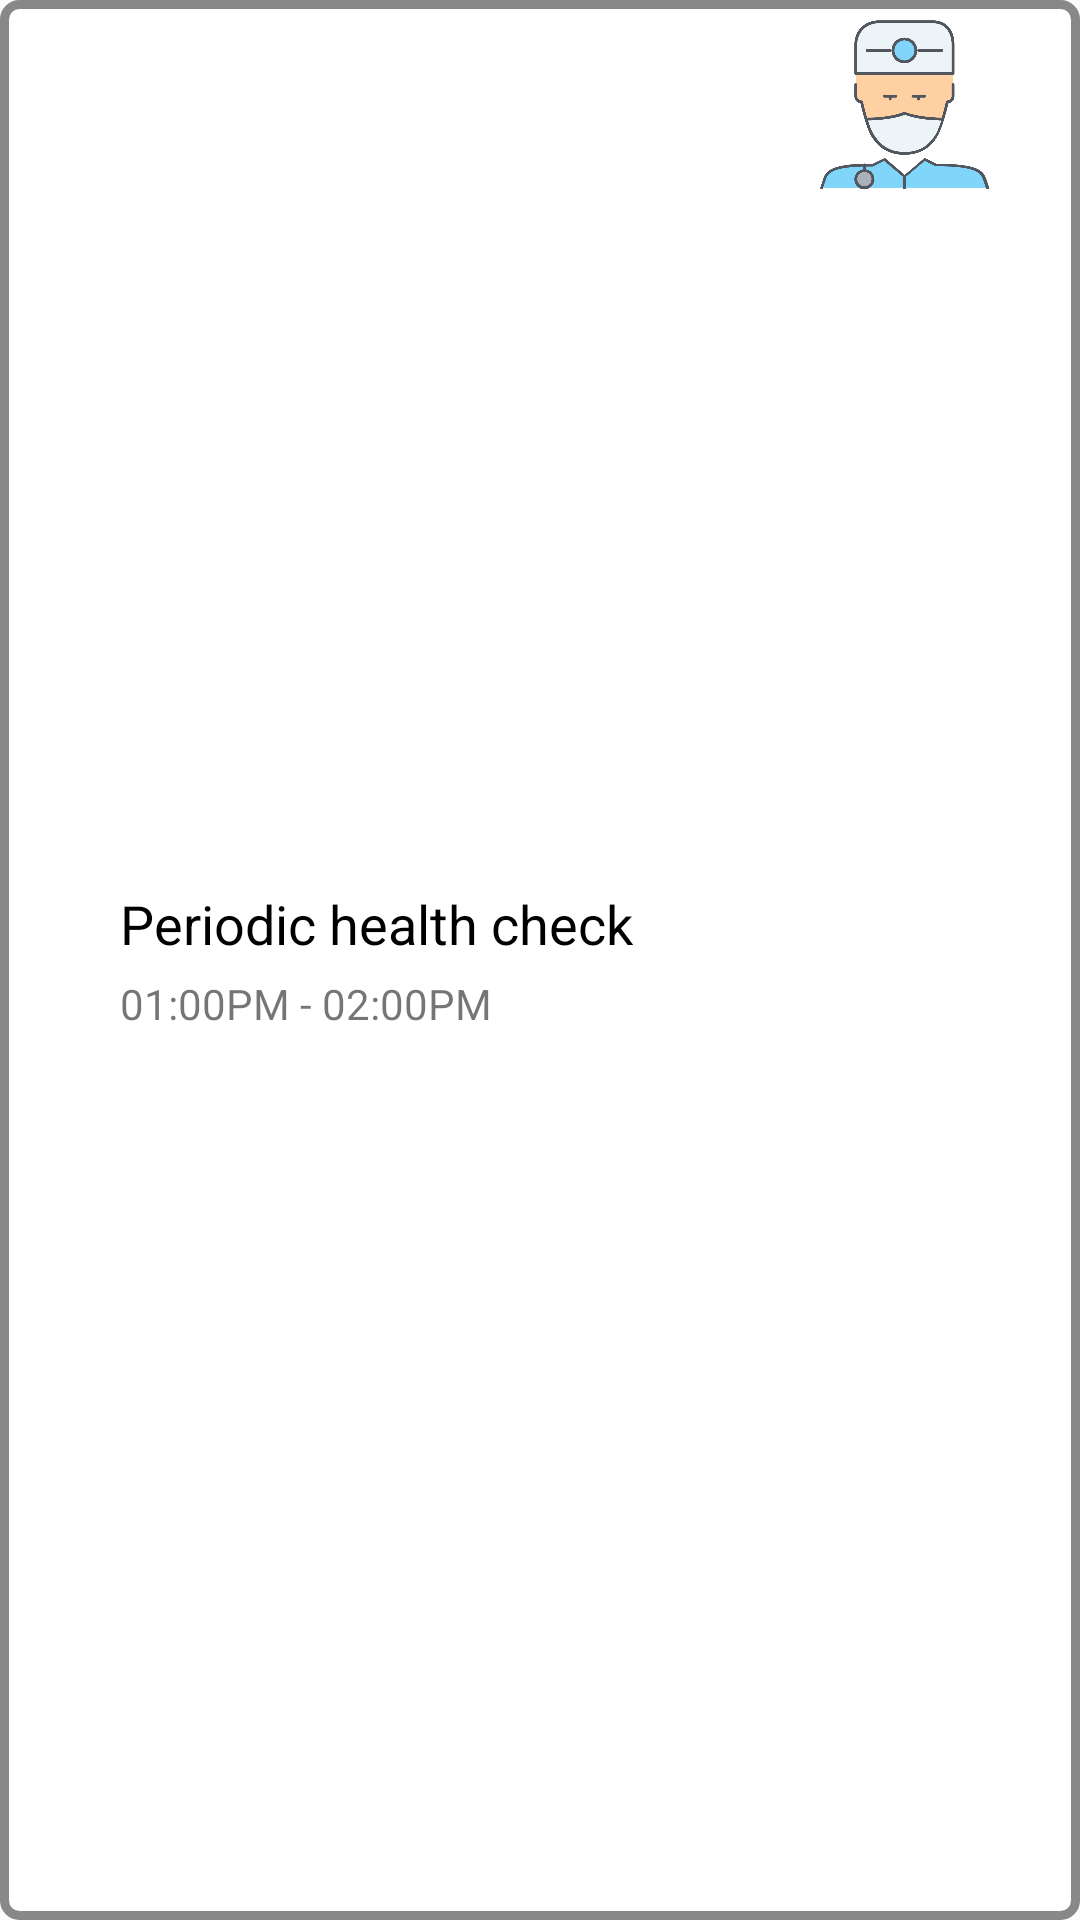

Icon click points for this 1080×1920 phone screenshot, format (x=x, y=y):
doctoricon: (x=904, y=105)
